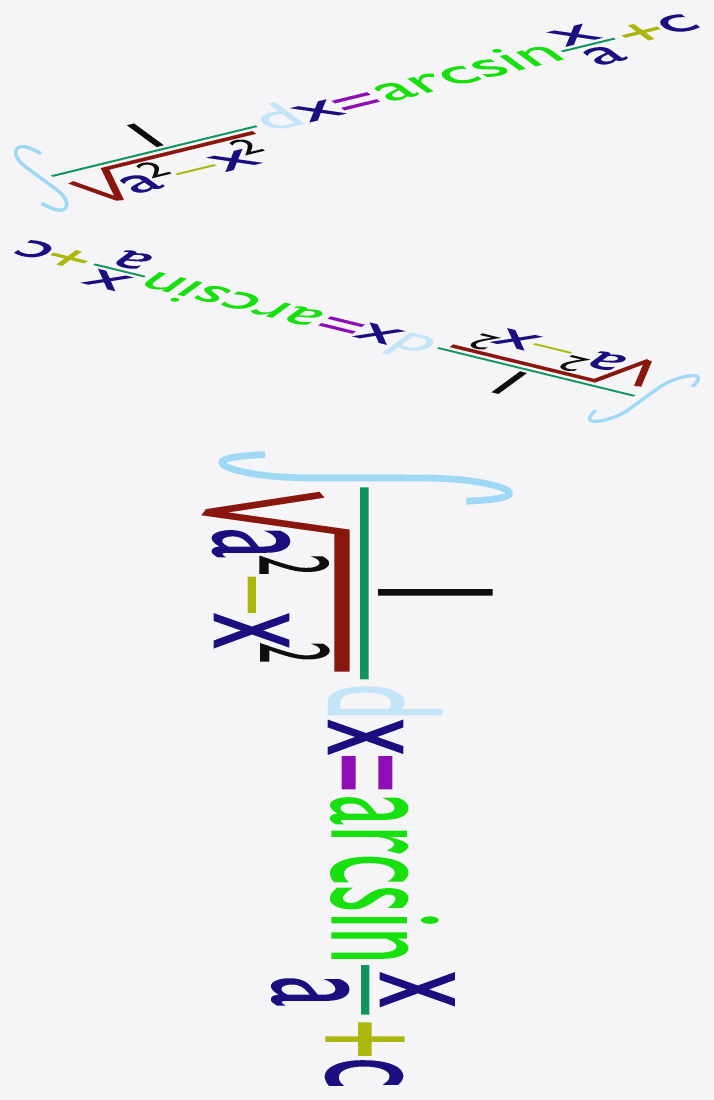
Rendered from int1peradala2minusxla2.glb.
3 renders of one model, top to bottom at view 1: azimuth 30°, elevation 25°; view 2: azimuth 150°, elevation 25°; view 3: azimuth 270°, elevation 25°, orthographic. The views are drawn at different scales.
Parts seen in each view (by area): view 1: int din 1 pe rad din a la 2 minus x la 2 dx; view 2: int din 1 pe rad din a la 2 minus x la 2 dx; view 3: int din 1 pe rad din a la 2 minus x la 2 dx.
Boxes of the visible parts, x1=… form: int din 1 pe rad din a la 2 minus x la 2 dx: x1=14, y1=14, x2=699, y2=211; int din 1 pe rad din a la 2 minus x la 2 dx: x1=14, y1=240, x2=699, y2=422; int din 1 pe rad din a la 2 minus x la 2 dx: x1=201, y1=451, x2=512, y2=1085.
Bounding box in the file's own units: 8.9 × 0.0401 × 1.85.
